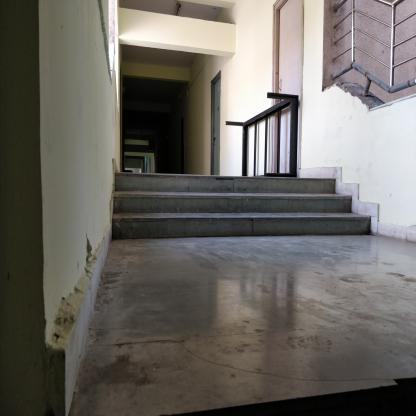stairs: (115, 174, 336, 246)
